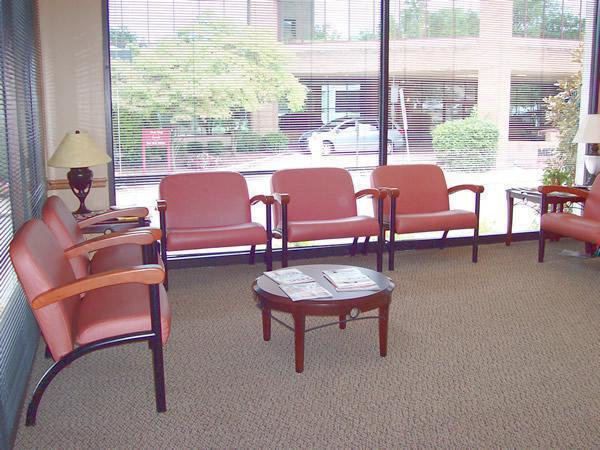Ventana: (106, 6, 384, 167), (391, 2, 580, 237), (3, 13, 43, 218)
